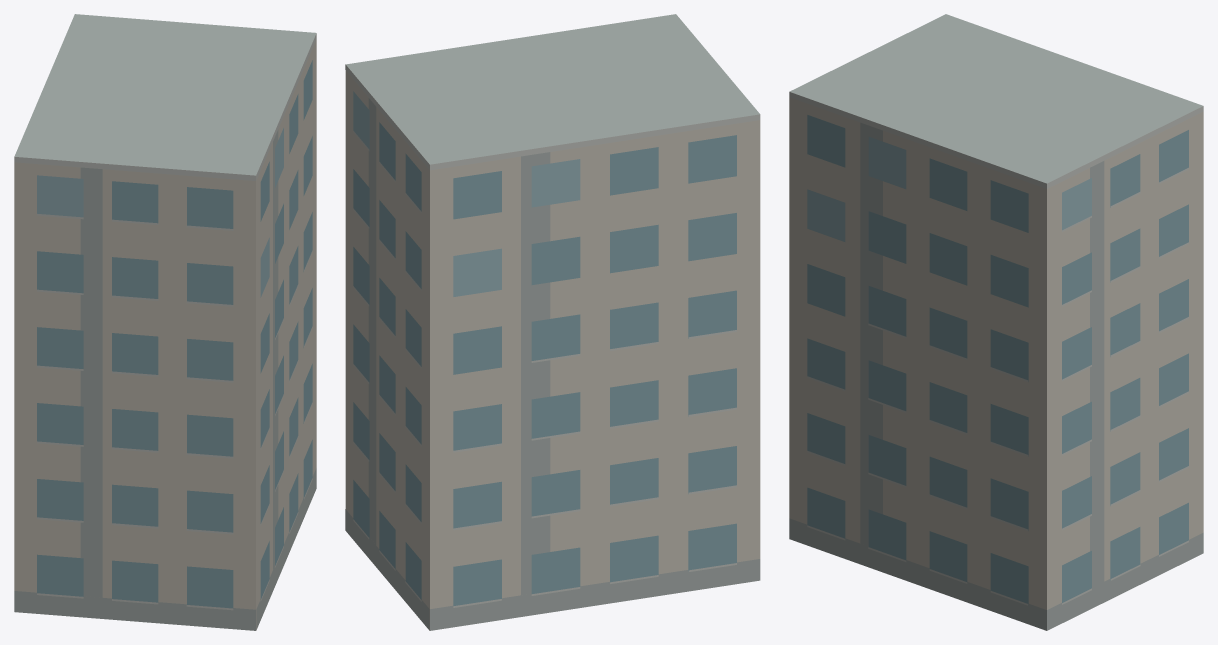
The model's file is survey-upis-32943364.glb.
3 renders of one model, left to right at view 1: azimuth 30°, elevation 25°; view 2: azimuth 150°, elevation 25°; view 3: azimuth 270°, elevation 25°, orthographic. The views are drawn at different scales.
Visible parts, largest first — view 1: survey-upis-32943364.tmp; view 2: survey-upis-32943364.tmp; view 3: survey-upis-32943364.tmp.
Part boxes in pixels (x1=…): survey-upis-32943364.tmp: x1=14, y1=14, x2=316, y2=630; survey-upis-32943364.tmp: x1=345, y1=14, x2=760, y2=630; survey-upis-32943364.tmp: x1=789, y1=14, x2=1203, y2=630.
Bounding box in the file's own units: 16.27 × 20 × 16.8.
